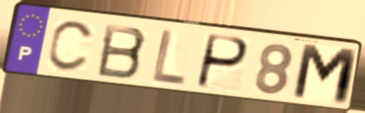8: (254, 42, 296, 97)
B: (94, 22, 149, 82)
C: (45, 19, 97, 75)
L: (150, 28, 189, 89)
M: (290, 41, 361, 109)
P: (193, 32, 251, 92)
